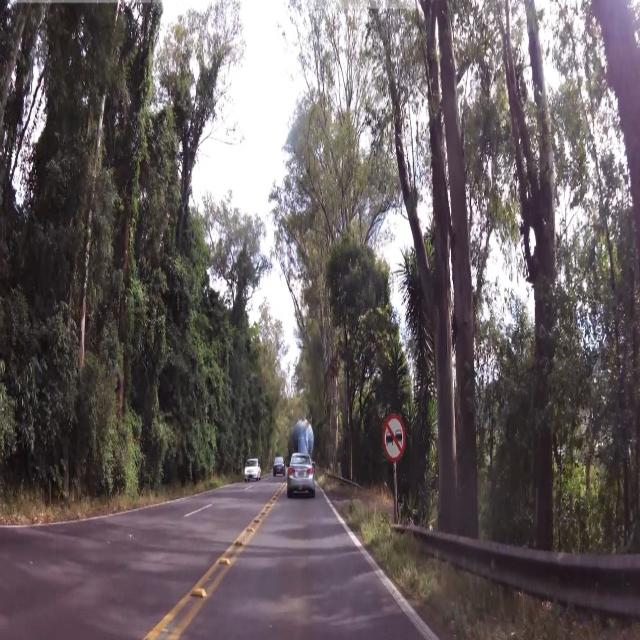R-7: (384, 414, 406, 464)
